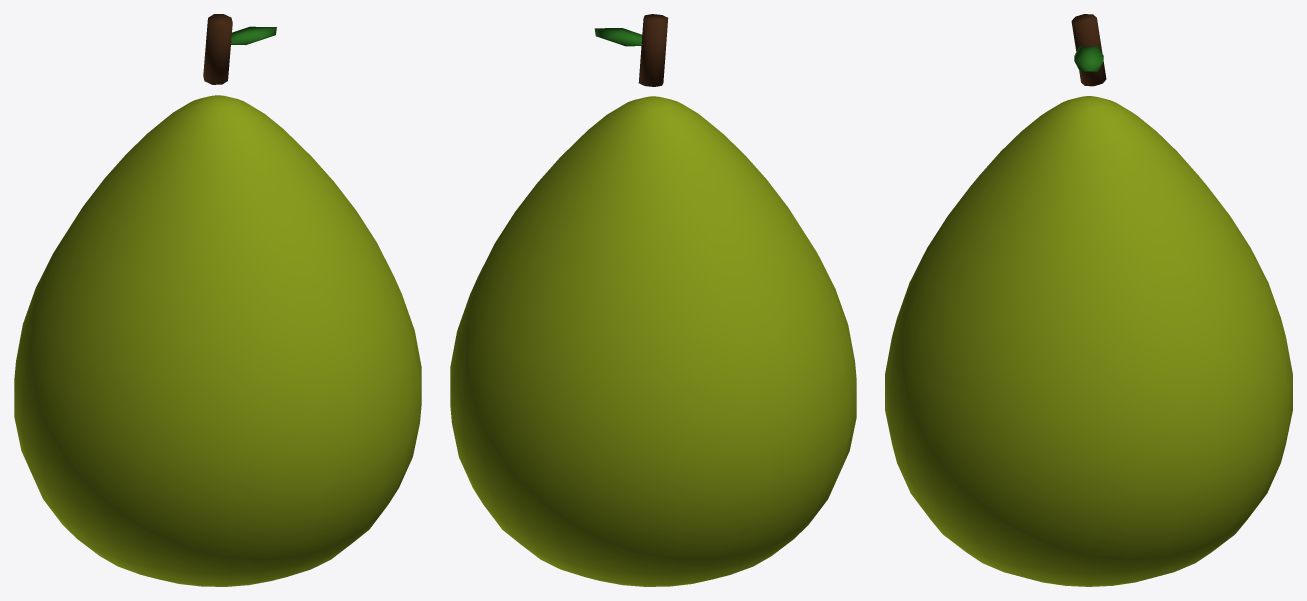
Rendered from pear.glb.
The picture shows the model from 3 angles, left to right: view 1: azimuth 30°, elevation 25°; view 2: azimuth 150°, elevation 25°; view 3: azimuth 270°, elevation 25°; orthographic projection.
Parts seen in each view (by area): view 1: pear; view 2: pear; view 3: pear.
Part boxes in pixels (x1,y1,x2,y2): pear: (14,14,421,586); pear: (450,14,856,586); pear: (885,14,1292,586).
Size of the model in its own units: 0.6794 by 1 by 0.6794.
Materials: 1 (1 with a texture image).
